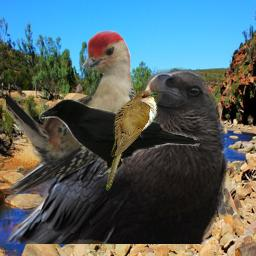Crow: (3, 66, 232, 244), (35, 95, 200, 177)
Cuckoo: (105, 90, 159, 191)
Woodpecker: (6, 30, 136, 202)
